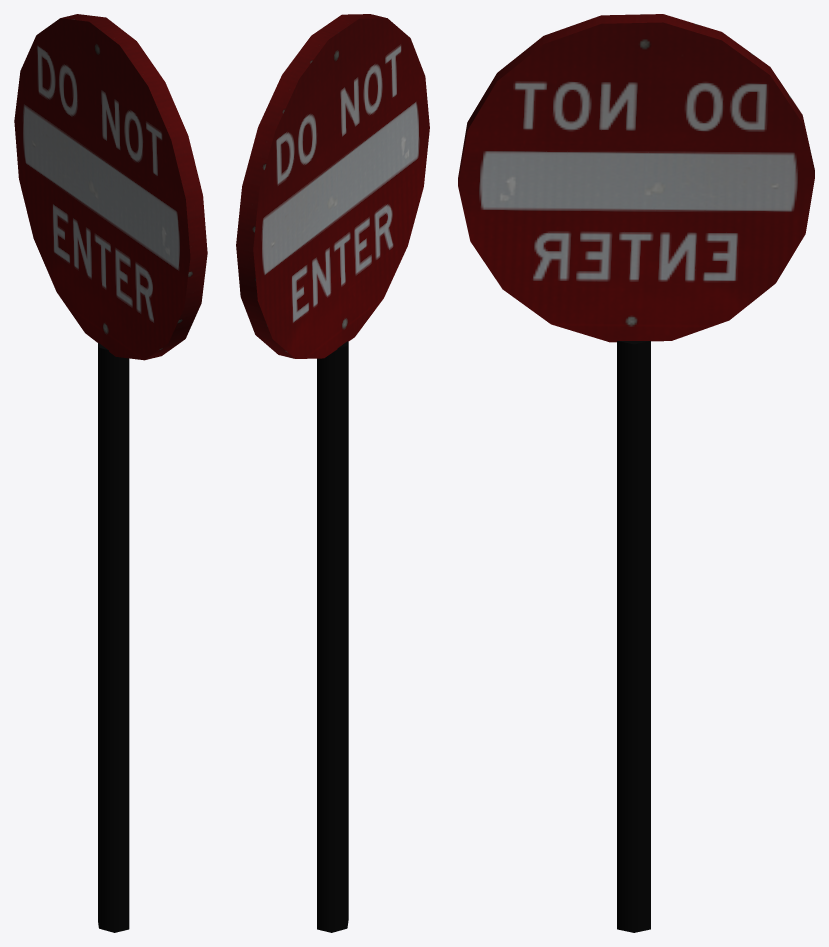
Rendered from traffic sign4.FBX.
3 renders of one model, left to right at view 1: azimuth 30°, elevation 25°; view 2: azimuth 150°, elevation 25°; view 3: azimuth 270°, elevation 25°, orthographic.
Visible parts, largest first — view 1: Cylinder002; view 2: Cylinder002; view 3: Cylinder002.
Part boxes in pixels (left/top/right/bottom): Cylinder002: left=14, top=14, right=207, bottom=932; Cylinder002: left=236, top=14, right=429, bottom=932; Cylinder002: left=458, top=14, right=814, bottom=932.
Size of the model in its own units: 0.64 by 18.8 by 6.7.
